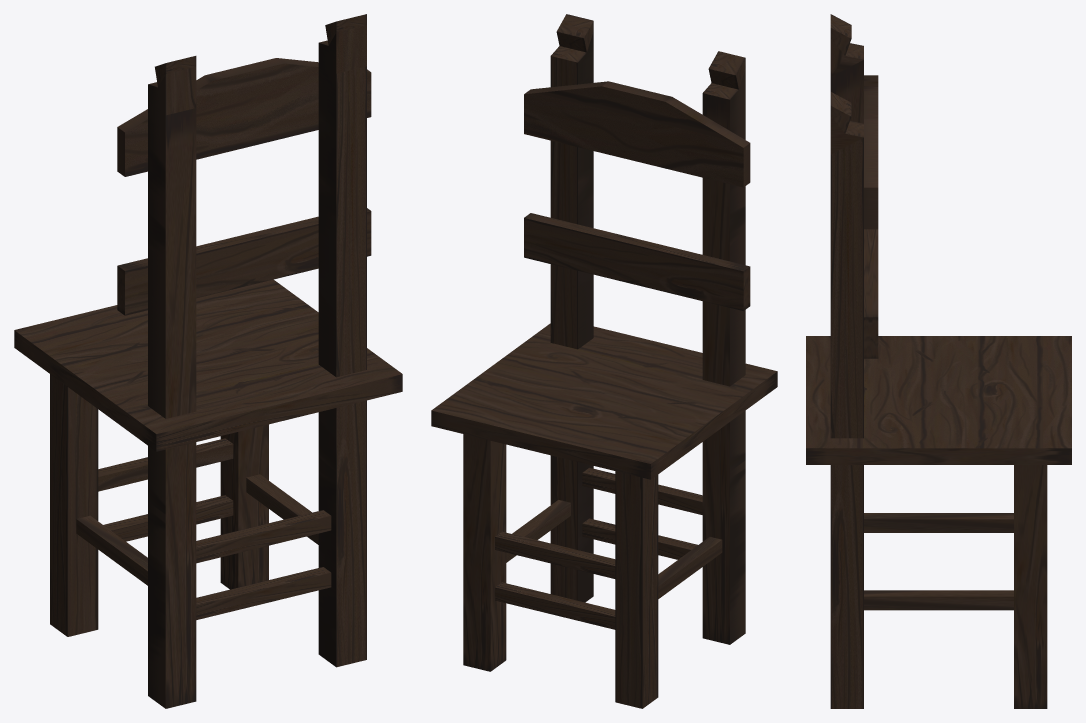
The model's file is chair.fbx.
3 views of the same model, side by side, from view 1: azimuth 30°, elevation 25°; view 2: azimuth 150°, elevation 25°; view 3: azimuth 270°, elevation 25° (orthographic). The views are drawn at different scales.
Visible parts, largest first — view 1: Cube.005; view 2: Cube.005; view 3: Cube.005.
Boxes of the visible parts, left/top/right/bottom form: Cube.005: left=14, top=14, right=402, bottom=708; Cube.005: left=431, top=14, right=777, bottom=708; Cube.005: left=806, top=14, right=1071, bottom=708.
Size of the model in its own units: 200 by 501 by 200.
